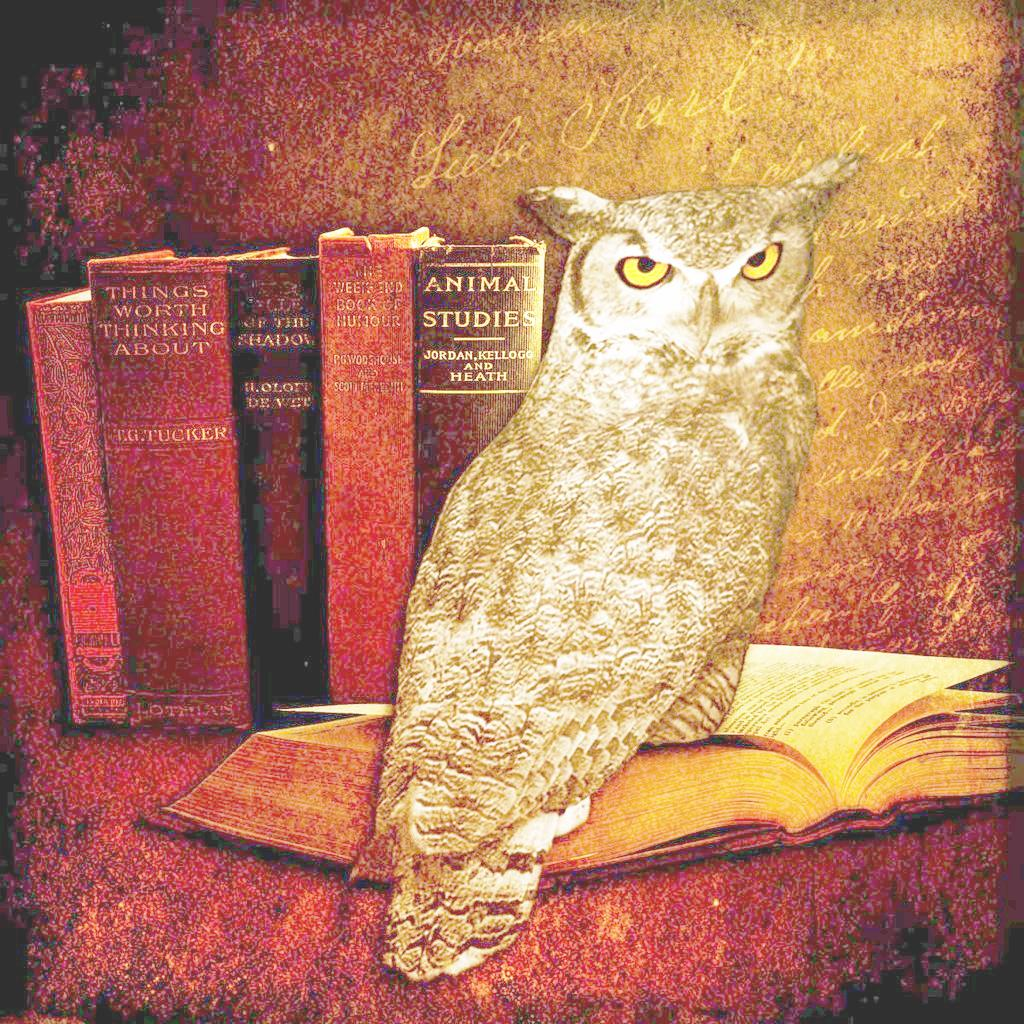Owl: (348, 146, 877, 986)
